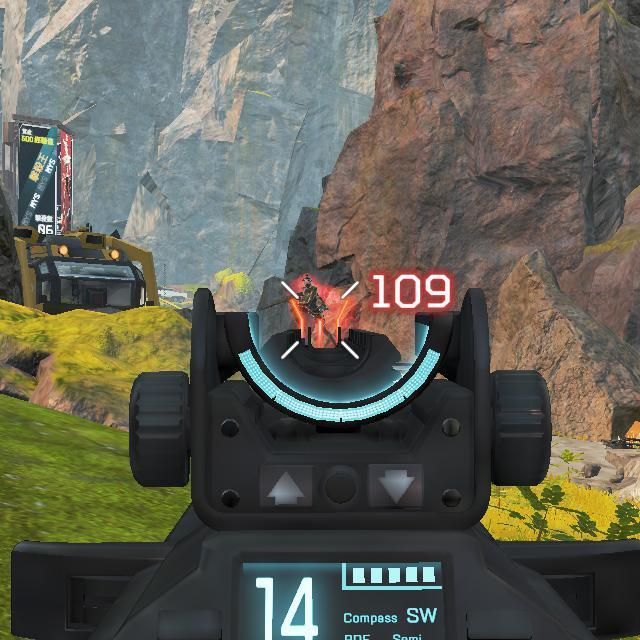avatar: (297, 272, 328, 319)
